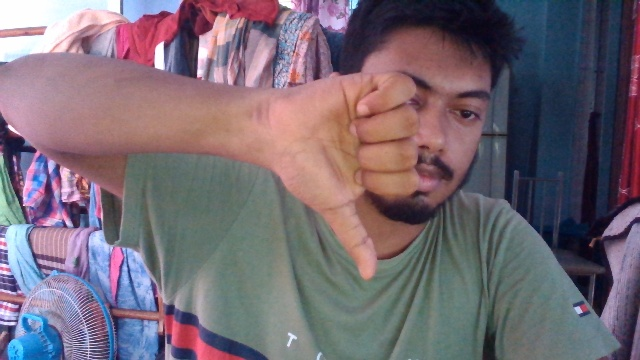no: (240, 64, 430, 281)
